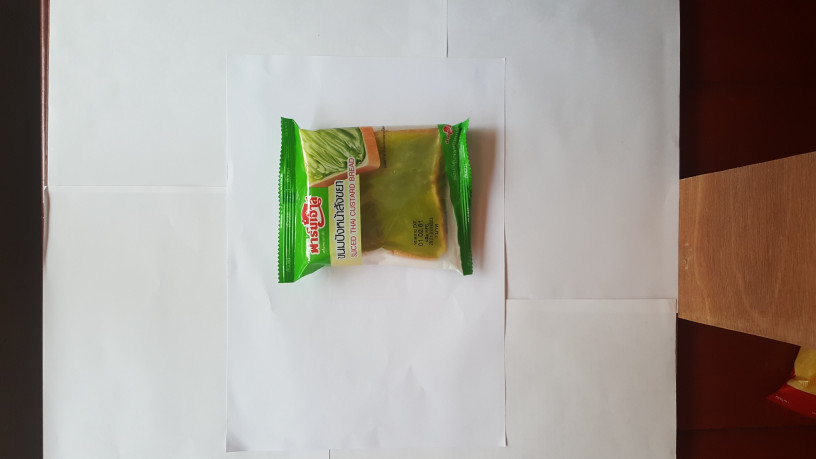farmhouse-bread-pandan: (272, 113, 477, 288)
